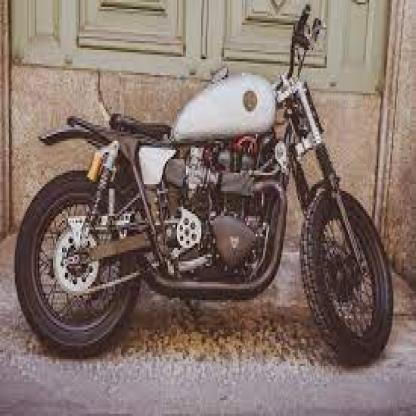bike: (12, 7, 399, 353)
